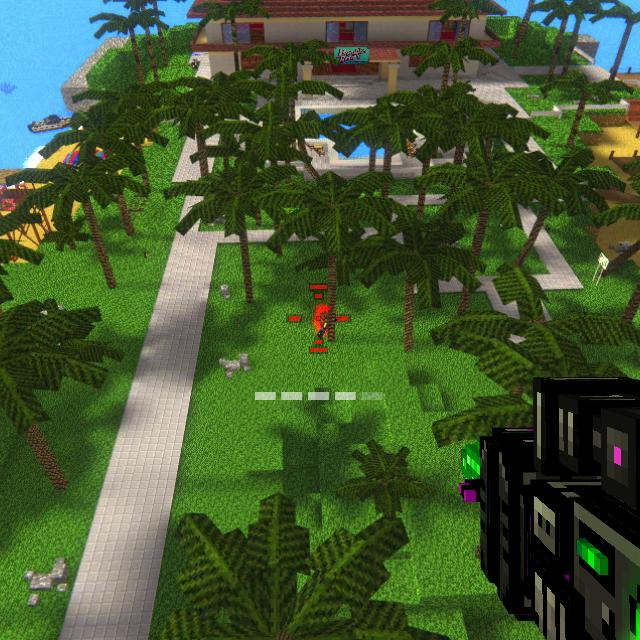Enemy: (315, 311, 329, 337)
